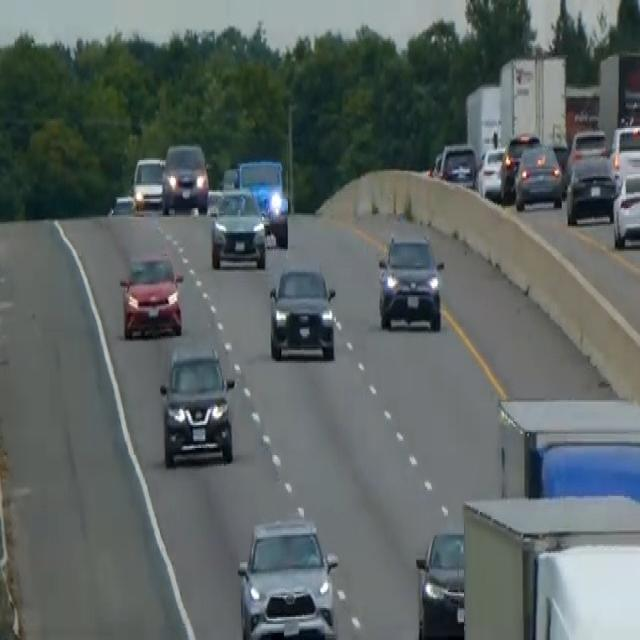car: (236, 514, 339, 638), (530, 540, 639, 638), (158, 343, 236, 468), (376, 228, 444, 332), (118, 249, 184, 339), (414, 528, 465, 638), (208, 185, 267, 270), (565, 151, 617, 226), (160, 141, 209, 215), (513, 142, 563, 212), (499, 130, 540, 201), (564, 126, 608, 183), (611, 169, 639, 247), (436, 140, 477, 188), (131, 154, 165, 210), (609, 123, 639, 181), (476, 144, 506, 201)
jeep: (267, 265, 337, 361), (222, 155, 290, 247)
lorry: (464, 50, 569, 164)
